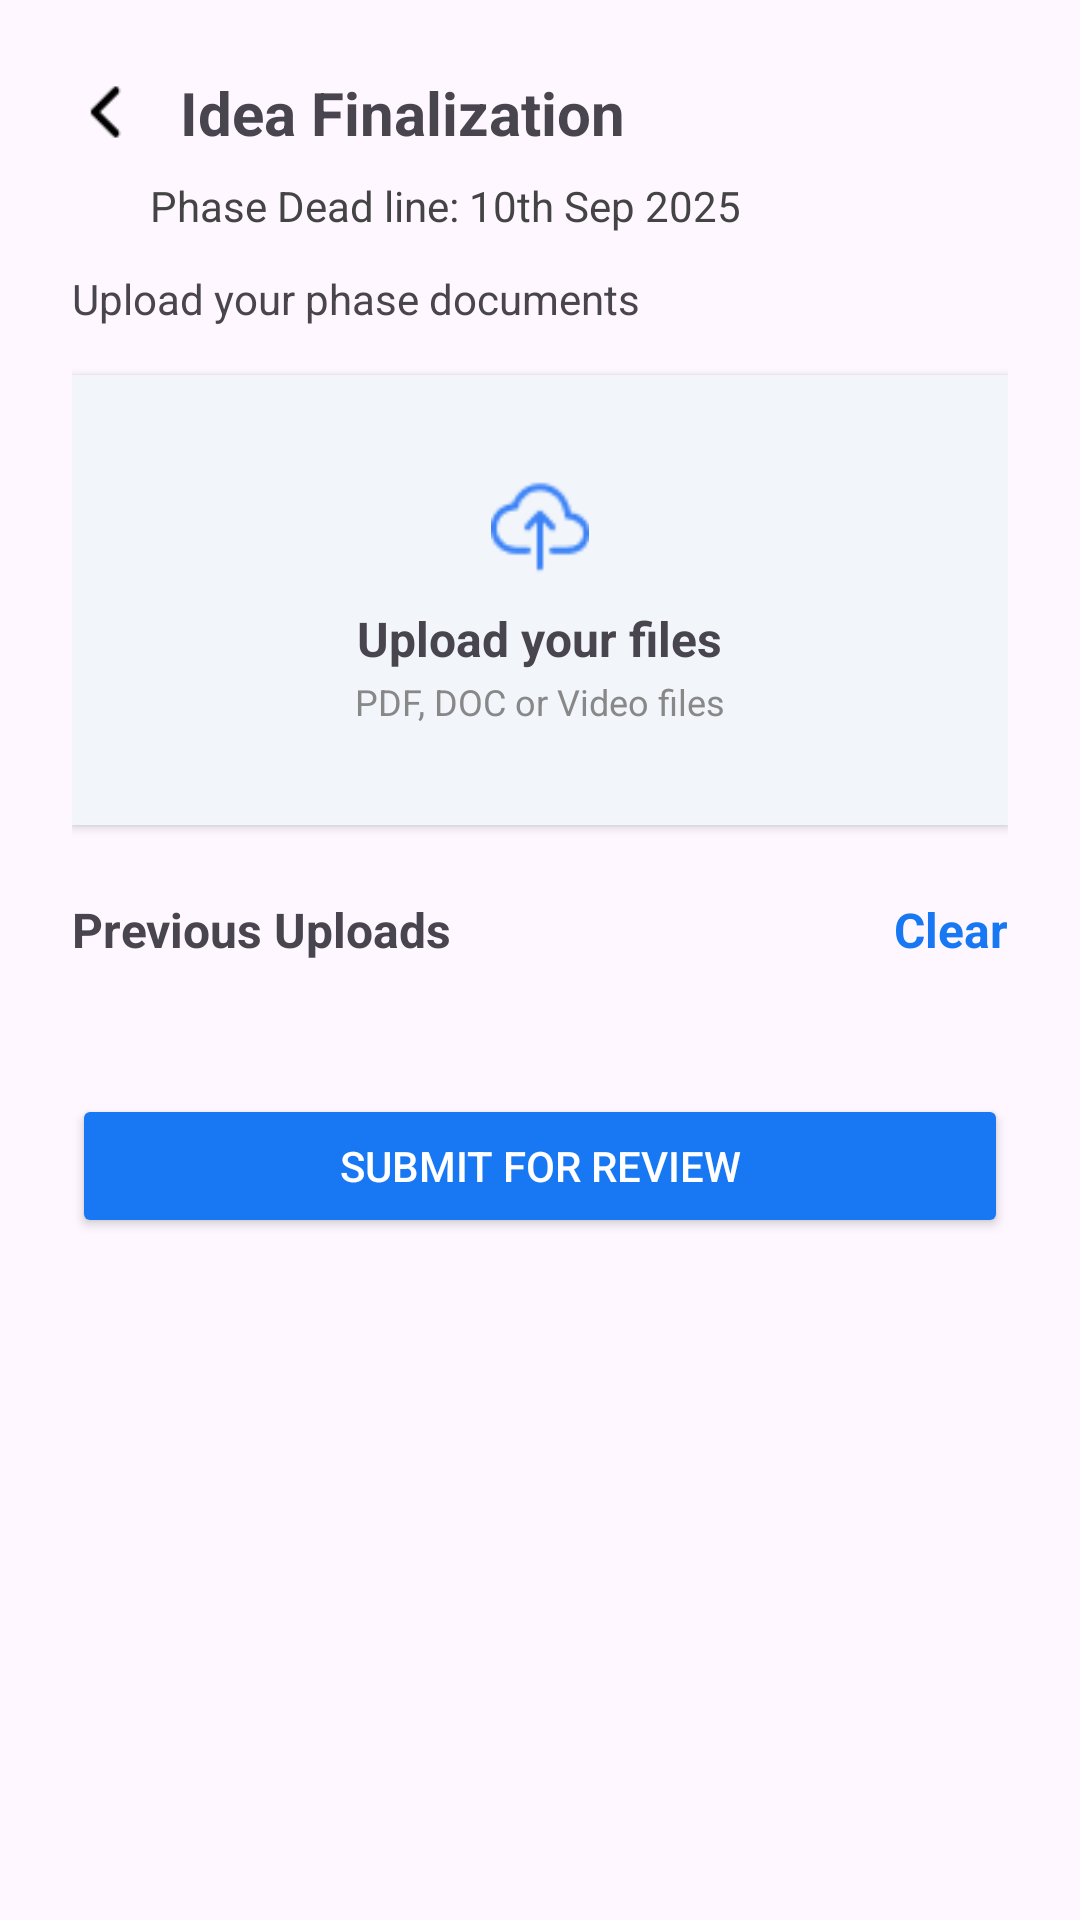

Named icons in this screenshot (1080 x 1920) and their centers, (x,y):
Back: (105,112)
